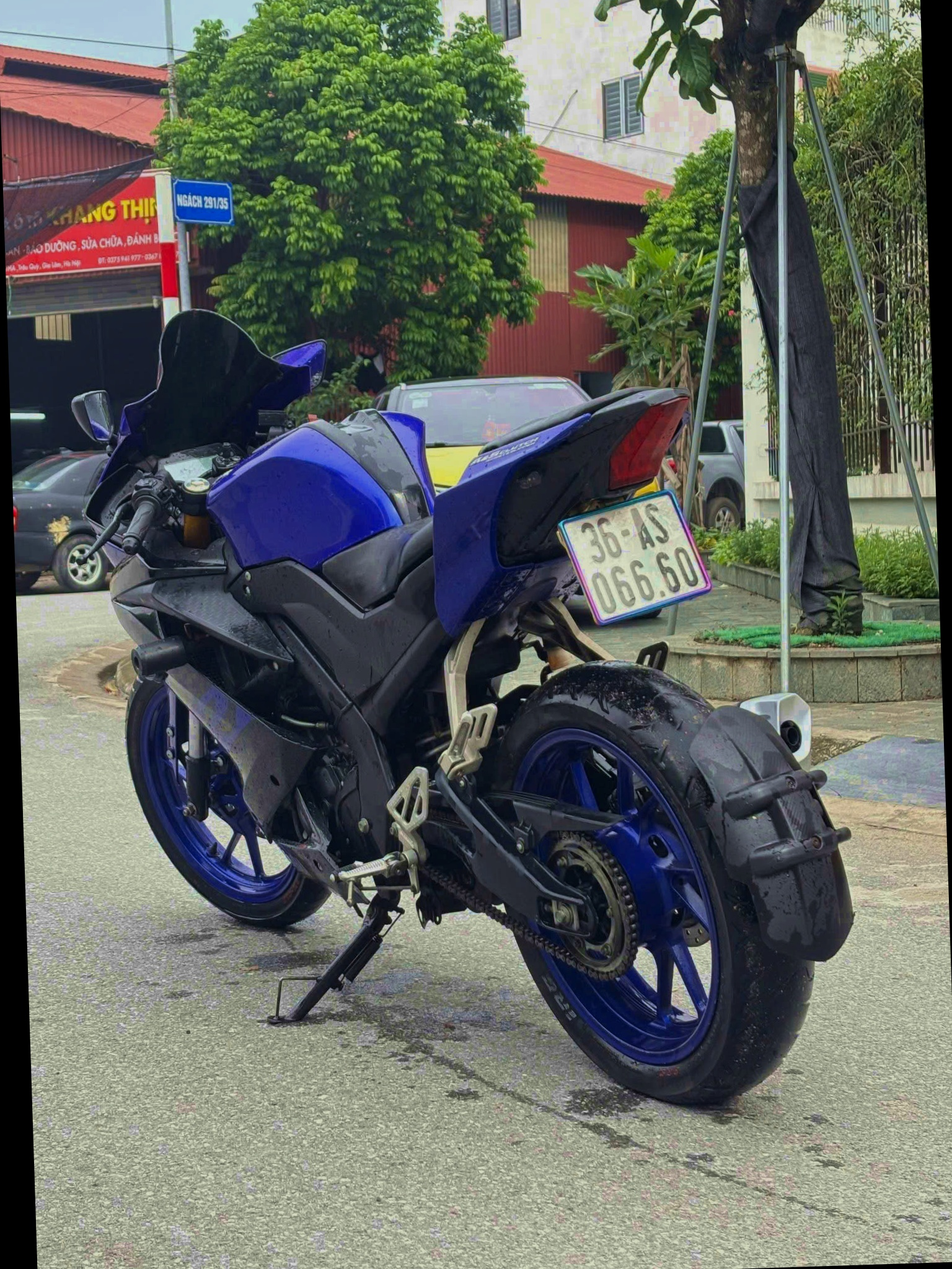Bien-so: (553, 479, 720, 634)
